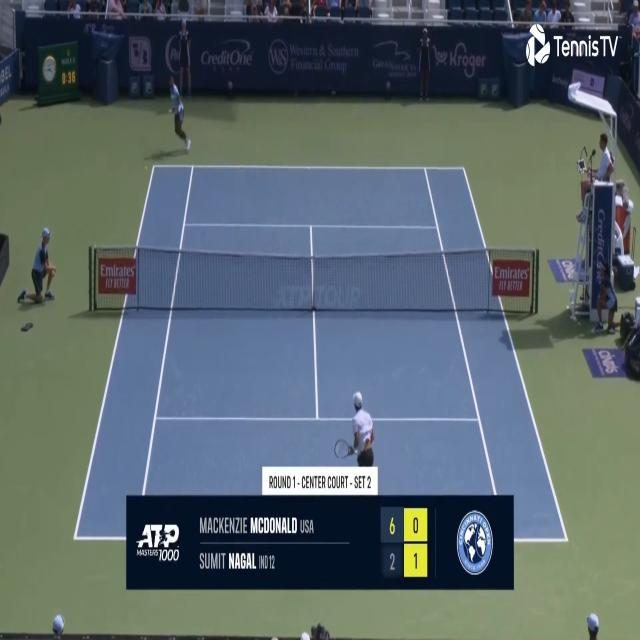tennis-player: (333, 389, 378, 495), (163, 68, 194, 155)
